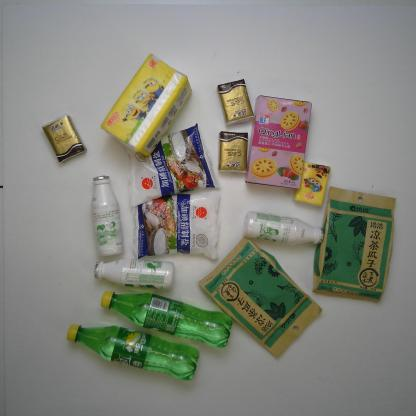Dessert: (245, 96, 314, 191)
Dried Food: (197, 234, 324, 361), (312, 185, 398, 302)
Drink: (96, 285, 232, 351), (64, 322, 201, 382)
Milk: (239, 210, 327, 248), (92, 254, 175, 292), (92, 173, 124, 257)
Seasoner: (122, 119, 220, 208), (133, 188, 221, 262)
Tissue: (102, 55, 193, 160), (43, 113, 82, 164), (216, 77, 254, 128), (293, 160, 332, 206), (218, 129, 249, 174)
